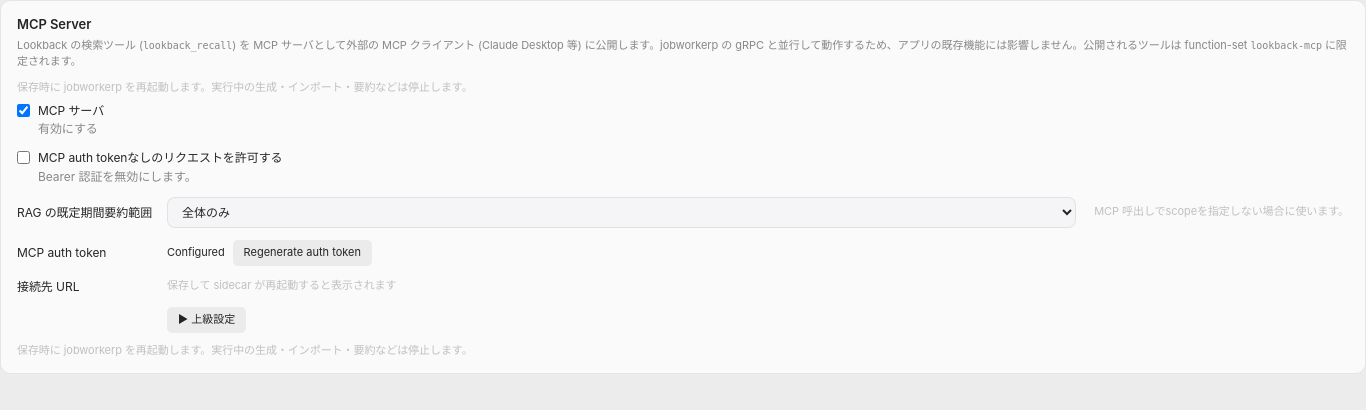
Scenario: McpServerCard › discards a pending token rotation when disabling MCP
Expected: the text "Configured" is shown, [167,245,225,261]
Click the button "Regenerate auth token" at (302, 253), box [233,240,372,266]
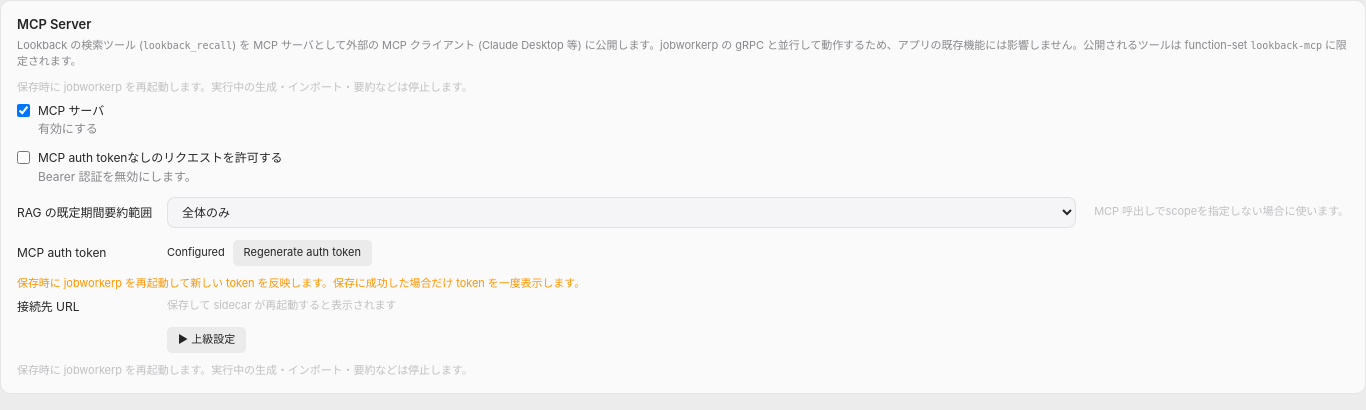
Expected: the text "保存時に jobworkerp を再起動して新しい token を反映します" is shown, [17,276,585,290]
Click the checkbox labelled "MCP サーバ 有効にする" at (24, 110), box [17,104,30,117]
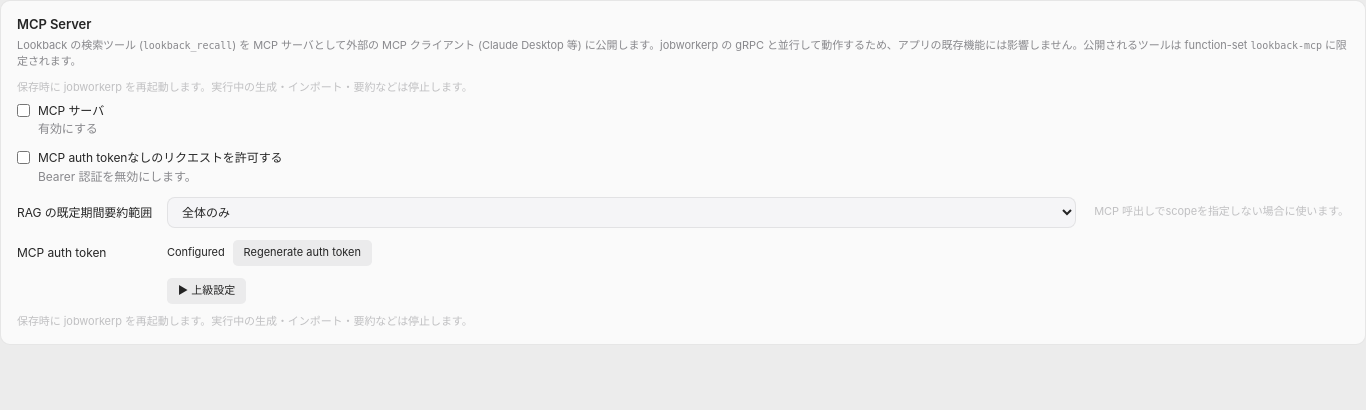
Expected: the text "保存時に jobworkerp を再起動して新しい token を反映します" is gone
